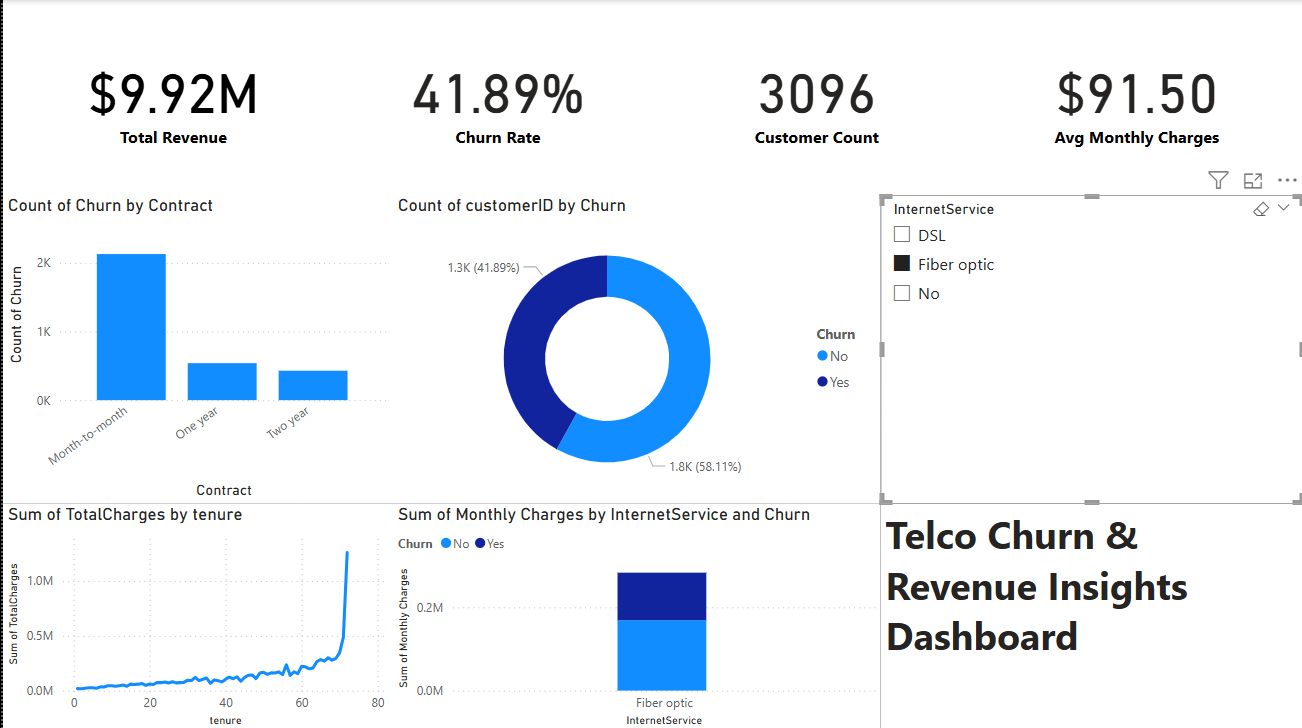

Layout of this report page (visuals, bound fields, positions):
{"tool":"powerbi","page":{"name":"Page 1","canvas":[1280,720],"ordinal":0},"visuals":[{"type":"card","fields":{"Values":["TelcoCustomerChurn.Total Revenue"]},"box":[0,0,336,192],"z":0},{"type":"card","fields":{"Values":["TelcoCustomerChurn.Churn Rate"]},"box":[323.8,0,328,192.1],"z":1000},{"type":"card","fields":{"Values":["TelcoCustomerChurn.Customer Count"]},"box":[638.1,0,328,192.1],"z":2000},{"type":"card","fields":{"Values":["TelcoCustomerChurn.Avg Monthly Charges"]},"box":[952,0,328,192.1],"z":3000},{"type":"clusteredColumnChart","fields":{"Category":["TelcoCustomerChurn.Contract"],"Y":["CountNonNull(TelcoCustomerChurn.Churn)"]},"box":[0,192,384,304],"z":4000},{"type":"donutChart","fields":{"Category":["TelcoCustomerChurn.Churn"],"Y":["CountNonNull(TelcoCustomerChurn.customerID)"]},"box":[384,192,480,304],"z":5000},{"type":"slicer","fields":{"Values":["TelcoCustomerChurn.InternetService"]},"box":[864,192,416,304],"z":6000},{"type":"lineChart","fields":{"Category":["TelcoCustomerChurn.tenure"],"Y":["Sum(TelcoCustomerChurn.TotalCharges)"]},"box":[0,496,384,224],"z":7000},{"type":"columnChart","fields":{"Category":["TelcoCustomerChurn.InternetService"],"Y":["Sum(TelcoCustomerChurn.Monthly Charges)"],"Series":["TelcoCustomerChurn.Churn"]},"box":[384,496,480,224],"z":8000},{"type":"textbox","box":[864,496,416,224],"z":9000}]}

Visuals, with their boxes on the page's 1280x720 design canvas (x1, y1, x2, y2). These are canvas units, not pixel positions in the 1302x728 screenshot, which may show the page scaled, cropped or inside an application window:
card - TelcoCustomerChurn.Total Revenue: rect(0, 0, 336, 192)
card - TelcoCustomerChurn.Churn Rate: rect(324, 0, 652, 192)
card - TelcoCustomerChurn.Customer Count: rect(638, 0, 966, 192)
card - TelcoCustomerChurn.Avg Monthly Charges: rect(952, 0, 1280, 192)
clusteredColumnChart - TelcoCustomerChurn.Contract x CountNonNull(TelcoCustomerChurn.Churn): rect(0, 192, 384, 496)
donutChart - TelcoCustomerChurn.Churn x CountNonNull(TelcoCustomerChurn.customerID): rect(384, 192, 864, 496)
slicer - TelcoCustomerChurn.InternetService: rect(864, 192, 1280, 496)
lineChart - TelcoCustomerChurn.tenure x Sum(TelcoCustomerChurn.TotalCharges): rect(0, 496, 384, 720)
columnChart - TelcoCustomerChurn.InternetService x Sum(TelcoCustomerChurn.Monthly Charges): rect(384, 496, 864, 720)
textbox: rect(864, 496, 1280, 720)
